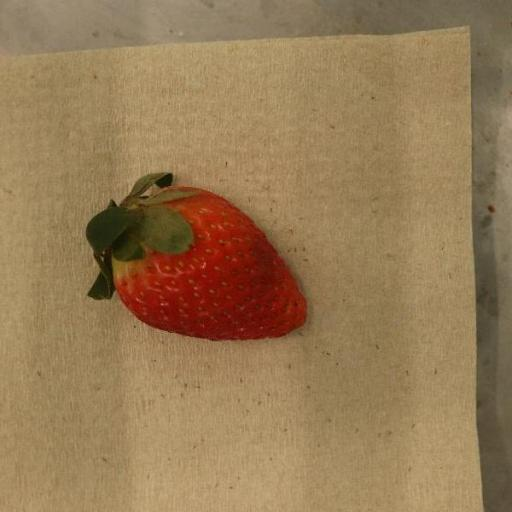Strawberry: (84, 173, 307, 342)
